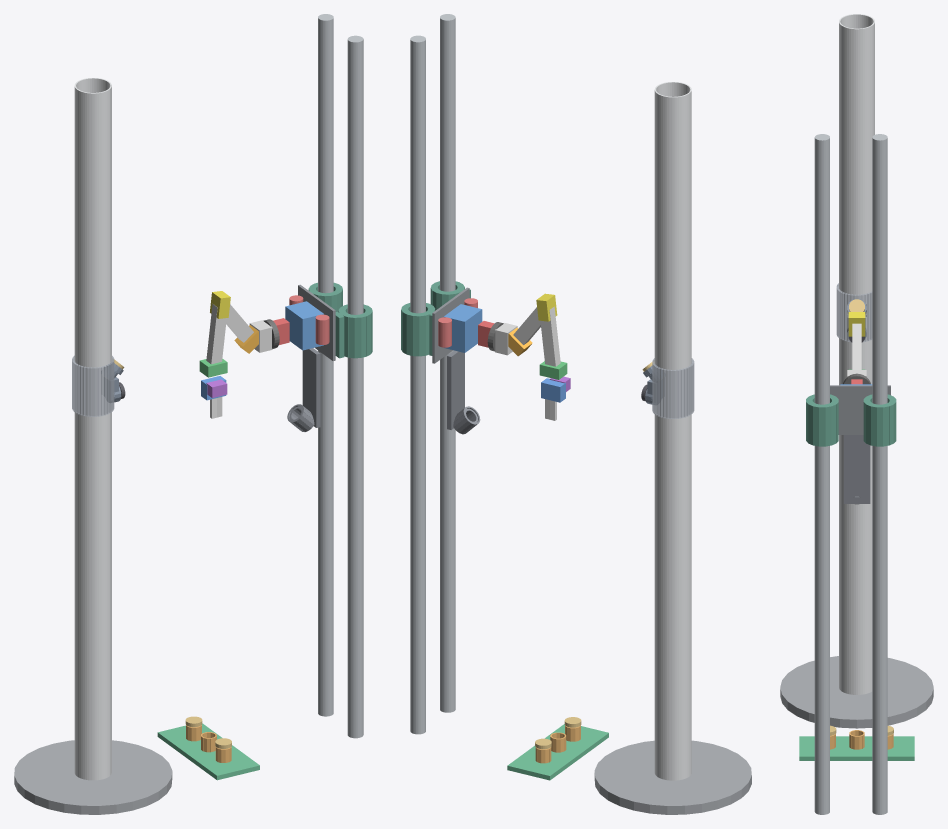
Rendered from transplant-seedling-step4-seat-v1.glb.
3 renders of one model, left to right at view 1: azimuth 30°, elevation 25°; view 2: azimuth 150°, elevation 25°; view 3: azimuth 270°, elevation 25°, orthographic. The views are drawn at different scales.
Size of the model in its own units: 0.7641 by 1.55 by 0.32.
